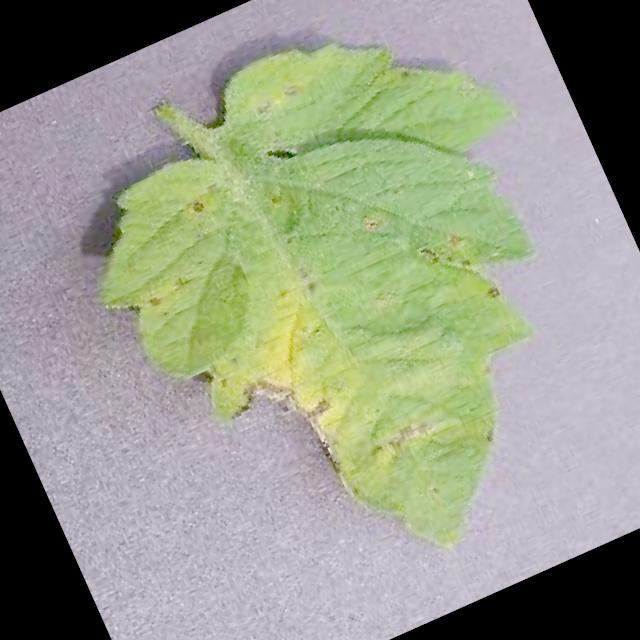Tomato Septoria spot leaf: (41, 0, 640, 633)
